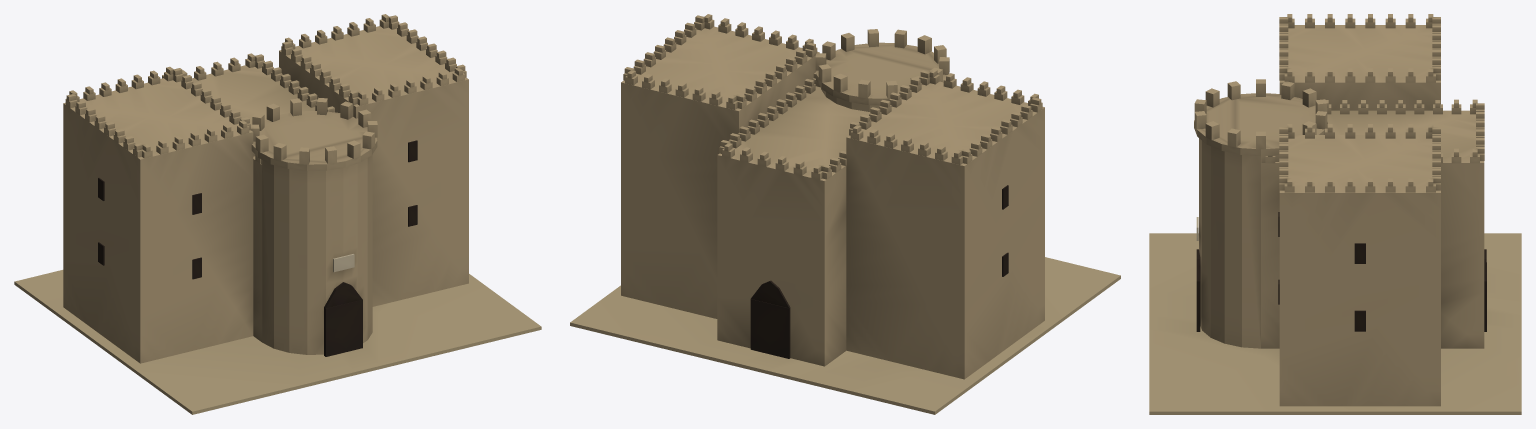
Rendered from calahorra.glb.
The picture shows the model from 3 angles, left to right: view 1: azimuth 30°, elevation 25°; view 2: azimuth 150°, elevation 25°; view 3: azimuth 270°, elevation 25°; orthographic projection. The views are drawn at different scales.
Visible parts, largest first — view 1: p1_towers, p0_ground, p2_battlements; view 2: p1_towers, p0_ground, p2_battlements; view 3: p1_towers, p0_ground, p2_battlements.
Boxes of the visible parts, x1,y1,x2,y2 form: p1_towers: (63,26,468,363); p0_ground: (14,270,541,414); p2_battlements: (65,14,466,164); p1_towers: (621,26,1044,379); p0_ground: (570,257,1120,414); p2_battlements: (623,14,1042,179); p1_towers: (1194,25,1486,406); p0_ground: (1149,233,1521,414); p2_battlements: (1194,14,1484,192).
Bounding box in the file's own units: 34 × 20.26 × 30.
